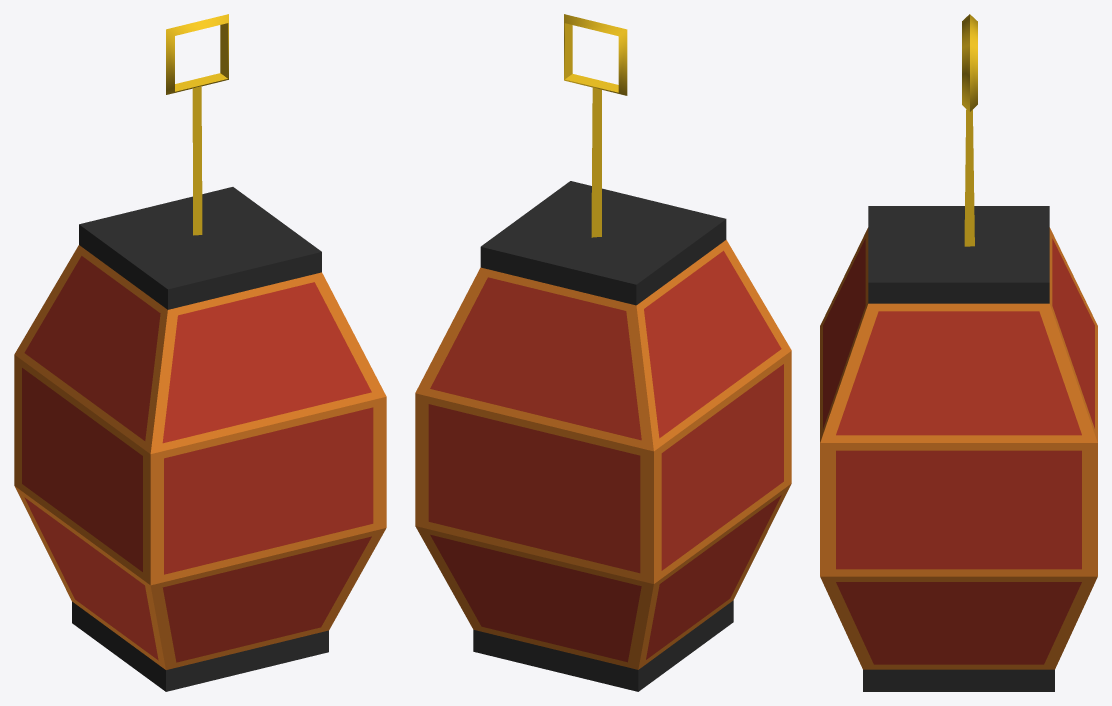
The model's file is ChineseLantern_05.glb.
The picture shows the model from 3 angles, left to right: view 1: azimuth 30°, elevation 25°; view 2: azimuth 150°, elevation 25°; view 3: azimuth 270°, elevation 25°; orthographic projection.
Visible parts, largest first — view 1: ChineseLantern_05; view 2: ChineseLantern_05; view 3: ChineseLantern_05.
Part boxes in pixels (x1,y1,x2,y2): ChineseLantern_05: (14, 14, 386, 691); ChineseLantern_05: (415, 14, 791, 691); ChineseLantern_05: (820, 14, 1097, 691).
Bounding box in the file's own units: 0.2514 × 0.6224 × 0.2514.
1 material, 1 textured.
